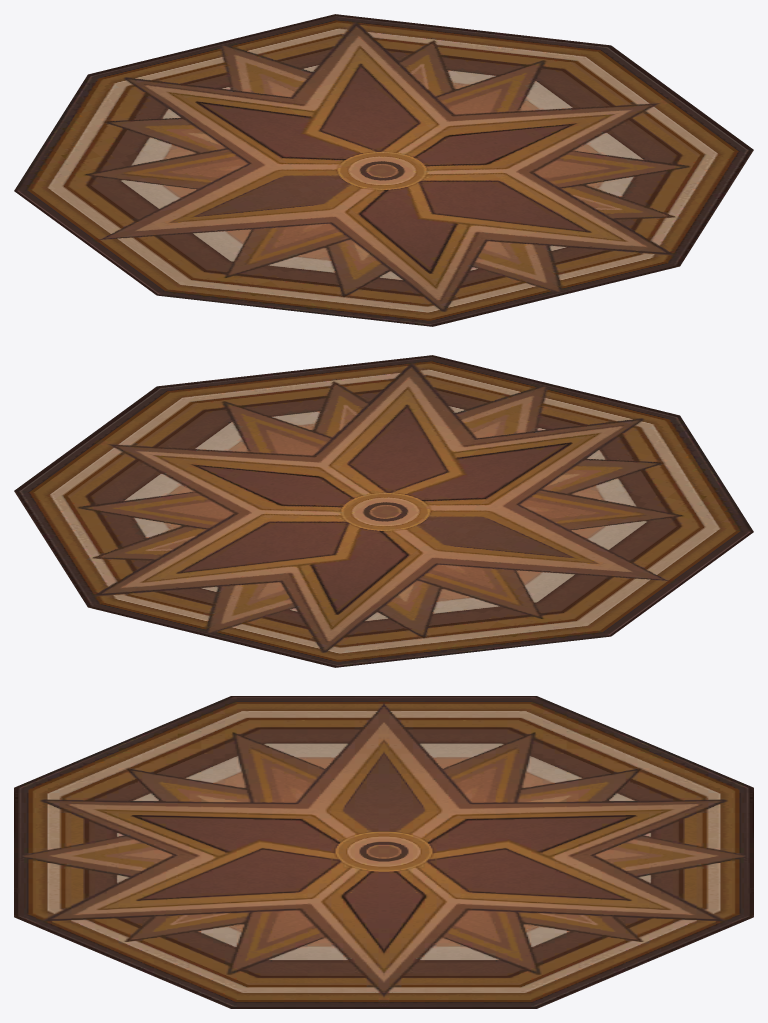
The model's file is my_trinityclassroom_01_carpet_03.glb.
The picture shows the model from 3 angles, top to bottom: view 1: azimuth 30°, elevation 25°; view 2: azimuth 150°, elevation 25°; view 3: azimuth 270°, elevation 25°; orthographic projection. The views are drawn at different scales.
Visible parts, largest first — view 1: my_trinityclassroom_01_carpet_03; view 2: my_trinityclassroom_01_carpet_03; view 3: my_trinityclassroom_01_carpet_03.
Part boxes in pixels (x1,y1,x2,y2): my_trinityclassroom_01_carpet_03: [14, 14, 753, 326]; my_trinityclassroom_01_carpet_03: [14, 355, 753, 667]; my_trinityclassroom_01_carpet_03: [14, 696, 753, 1008].
Bounding box in the file's own units: 0.0173 × 0 × 0.0173.
1 material, 1 textured.
